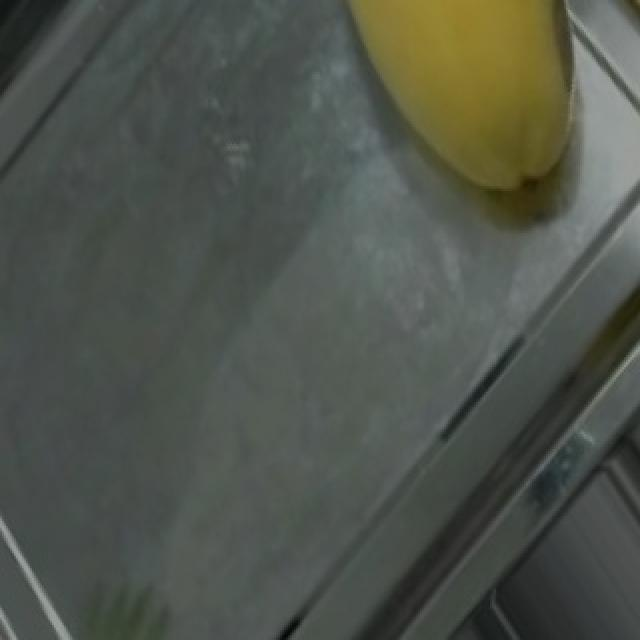fruit: (296, 0, 640, 260)
